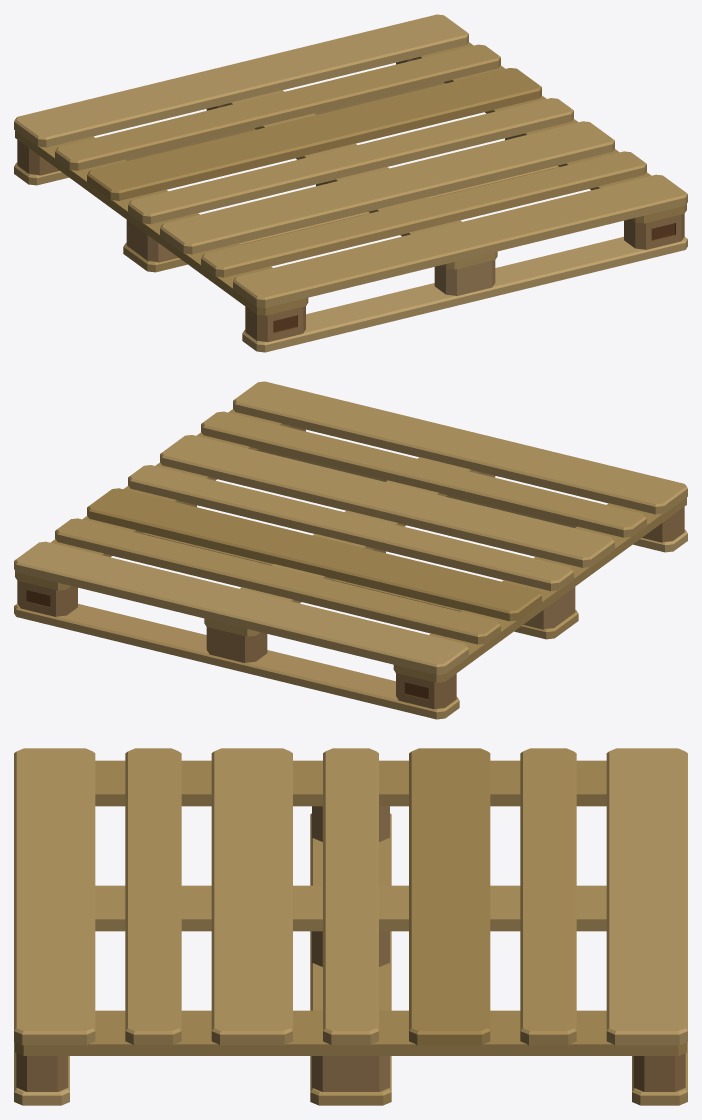
The model's file is pallet.glb.
3 renders of one model, top to bottom at view 1: azimuth 30°, elevation 25°; view 2: azimuth 150°, elevation 25°; view 3: azimuth 270°, elevation 25°, orthographic. The views are drawn at different scales.
Parts seen in each view (by area): view 1: pallet; view 2: pallet; view 3: pallet.
Boxes of the visible parts, x1,y1,x2,y2 form: pallet: (14, 14, 687, 352); pallet: (14, 381, 687, 719); pallet: (14, 748, 687, 1105).
Bounding box in the file's own units: 1.2 × 0.144 × 1.2.
